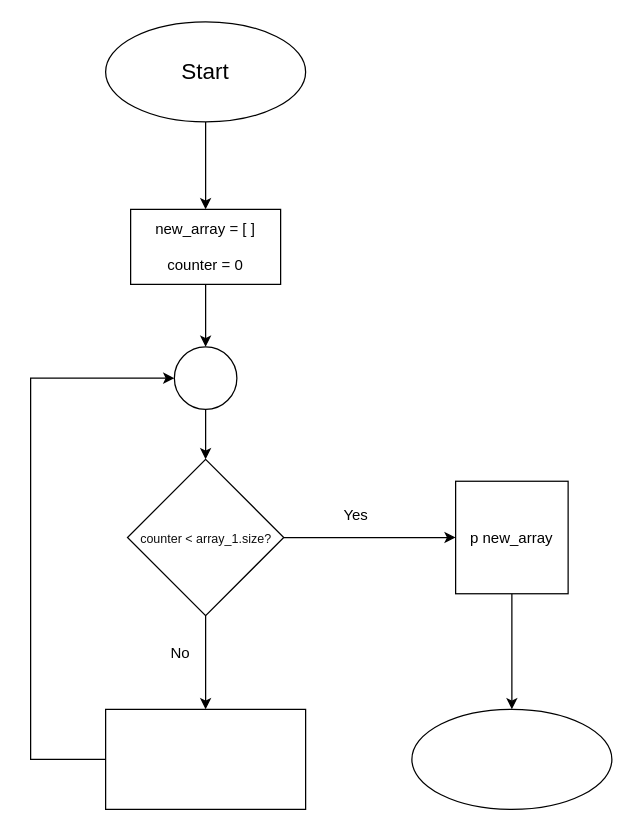
This 634x831 diagram has some shape labels left out. The centre of each missing label's shape, as x and y in pixels:
new_array.push (array_1[counter]) new_array.push (array_2[counter]): (x=205, y=758)
Stop: (x=511, y=758)
